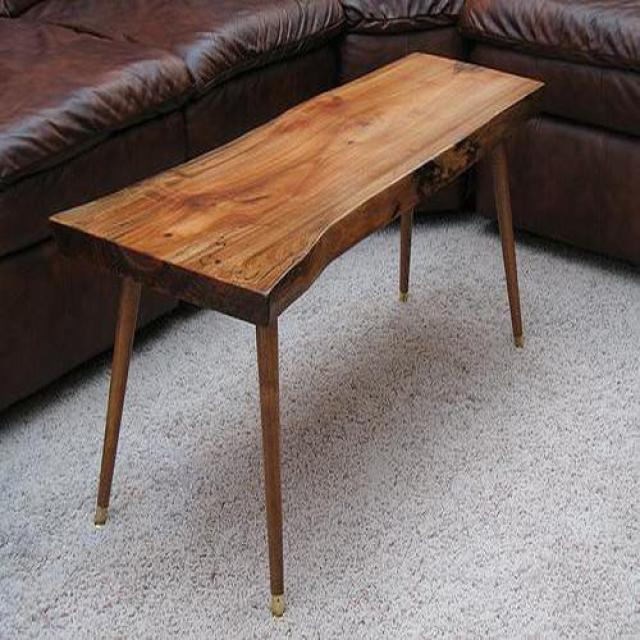table: (51, 52, 545, 618)
